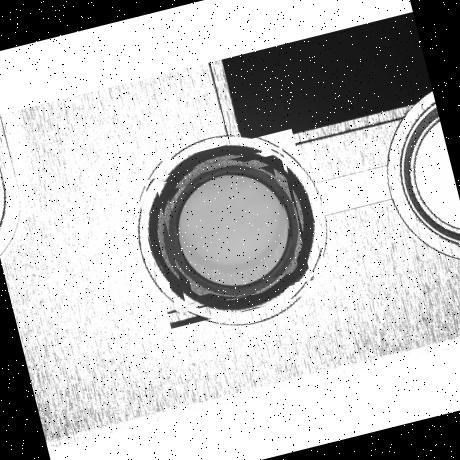Hole: (130, 128, 331, 330)
Hole2: (144, 145, 314, 315)
Hole3: (156, 152, 312, 310)
Hole4: (166, 164, 298, 297)
